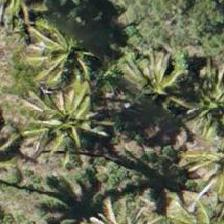coconut_tree: (111, 25, 201, 115), (23, 6, 113, 96), (23, 75, 113, 165), (169, 48, 223, 138)
